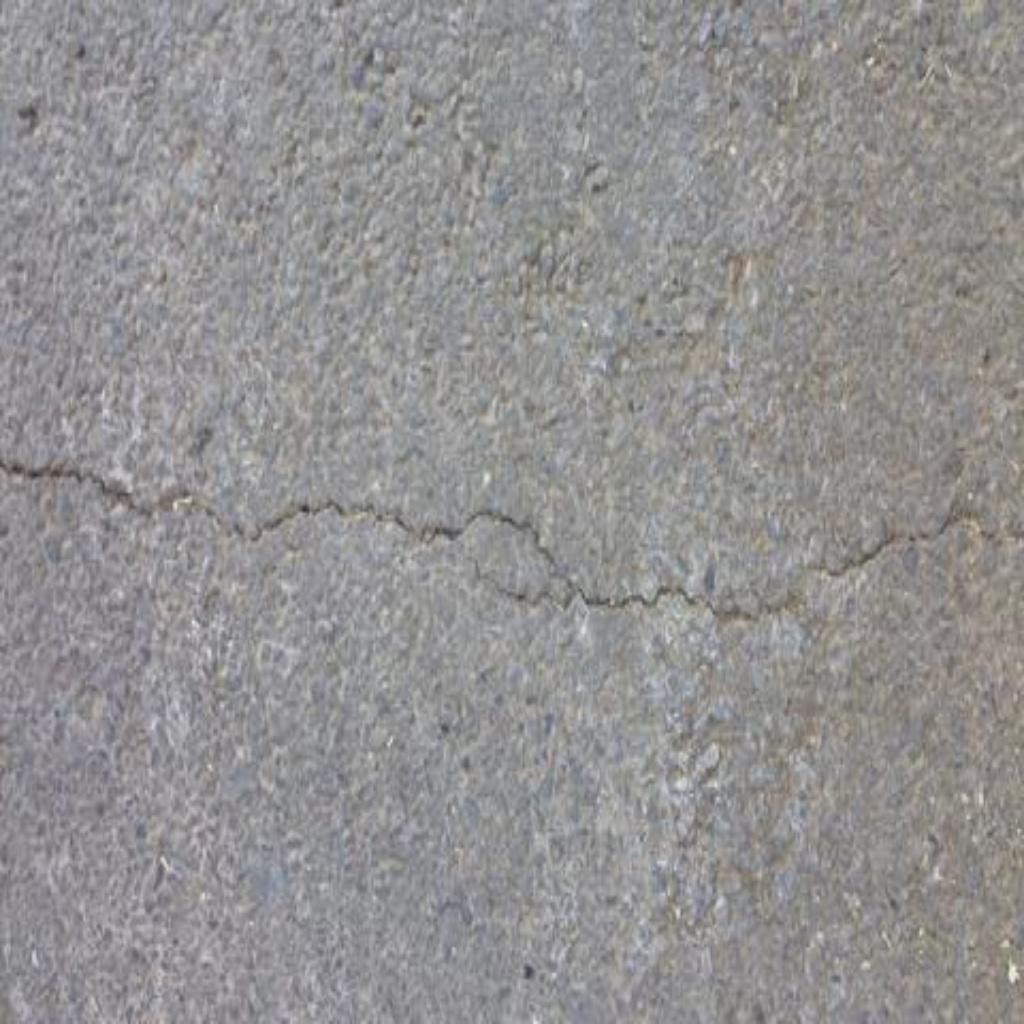Crack: (1, 457, 1024, 627)
